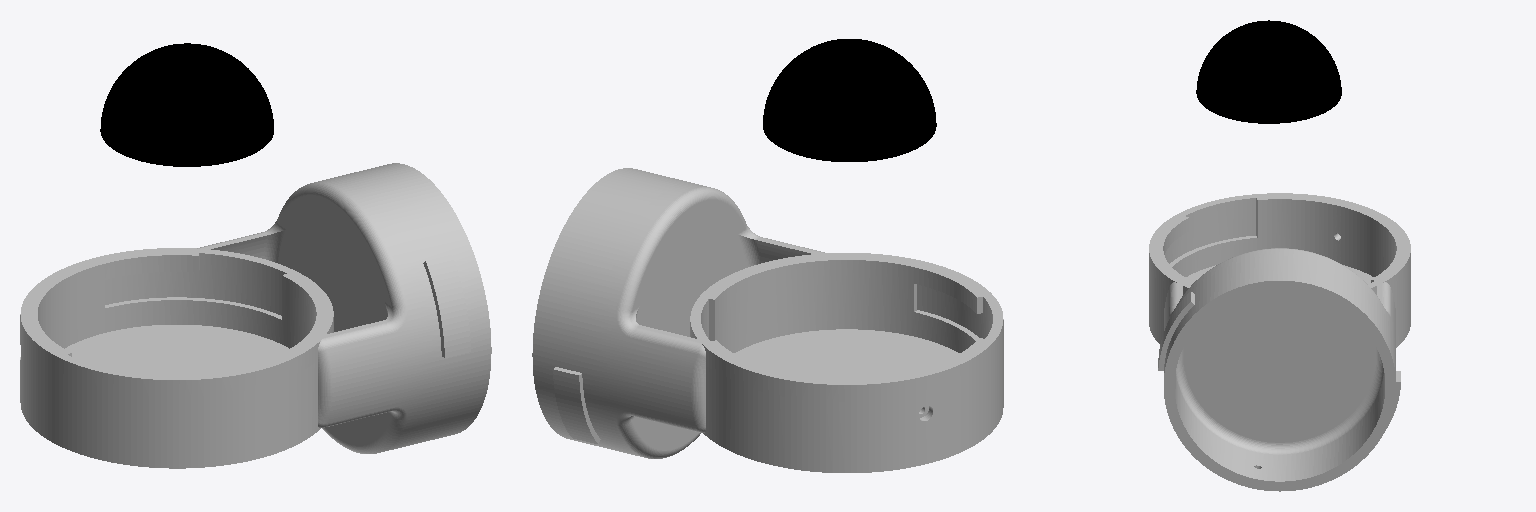
URDF robot description (tactip_body.urdf):
<?xml version="1.0" ?>
<robot name="tactip_body.urdf">

  <link name="tactip_adapter">
    <inertial>
      <origin rpy="0 0 0" xyz="0 0 0"/>
       <mass value="0.1"/>
       <inertia ixx="0.001" ixy="0" ixz="0" iyy="0.001" iyz="0" izz="0.001"/>
    </inertial>
    <visual>
      <origin rpy="0 0 0" xyz="0 0 0"/>
      <geometry>
				<mesh filename="adapter/right_angle_adapter.obj" scale="1.0 1.0 1.0"/>
      </geometry>
       <material name="whitish">
        <color rgba="0.8 0.8 0.8 1.0"/>
      </material>
    </visual>
    <collision>
      <origin rpy="0 0 0" xyz="0 0 0"/>
      <geometry>
				<mesh filename="adapter/right_angle_adapter.obj" scale="1.0 1.0 1.0"/>
      </geometry>
    </collision>
  </link>

  <link name="tactip_body">
    <inertial>
      <origin rpy="0 0 0" xyz="0 0 0"/>
       <mass value="0.1"/>
       <inertia ixx="0.001" ixy="0" ixz="0" iyy="0.001" iyz="0" izz="0.001"/>
    </inertial>
    <visual>
      <origin rpy="0 0 0" xyz="0 0 0"/>
      <geometry>
				<mesh filename="../standard_tactip/body/tactip_body.obj" scale="1.0 1.0 1.0"/>
      </geometry>
       <material name="whitish">
        <color rgba="0.8 0.8 0.8 1.0"/>
      </material>
    </visual>
    <collision>
      <origin rpy="0 0 0" xyz="0 0 0"/>
      <geometry>
				<mesh filename="../standard_tactip/body/tactip_body.obj" scale="1.0 1.0 1.0"/>
      </geometry>
    </collision>
  </link>

  <link name="tactip_core">
    <contact>
      <friction_anchor/>
      <lateral_friction value="1.0"/>
      <spinning_friction value="0.0"/>
      <rolling_friction value="0.0"/>
      <restitution value="0.0"/>
    </contact>
    <inertial>
      <origin rpy="0 0 0" xyz="0 0 0"/>
       <mass value=".001"/>
       <inertia ixx="1" ixy="0" ixz="0" iyy="1" iyz="0" izz="1"/>
    </inertial>
    <visual>
      <origin rpy="0 0 0" xyz="0 0 0"/>
      <geometry>
        <mesh filename="../standard_tactip/tip/core.obj" scale="0 0 0"/>
      </geometry>
       <material name="invisible">
        <color rgba="1.0 0.0 0.0 1.0"/>
      </material>
    </visual>
    <collision>
      <origin rpy="0 0 0" xyz="0 0 0"/>
      <geometry>
        <mesh filename="../standard_tactip/tip/core.obj" scale="1 1 1"/>
      </geometry>
    </collision>
  </link>

  <link name="tactip_skin">
    <inertial>
      <origin rpy="0 0 0" xyz="0 0 0"/>
       <mass value=".0"/>
       <inertia ixx=".001" ixy="0" ixz="0" iyy=".001" iyz="0" izz=".001"/>
    </inertial>
    <visual>
      <origin rpy="0 0 0" xyz="0 0 0"/>
      <geometry>
        <mesh filename="../standard_tactip/tip/skin.obj" scale="1.0 1.0 1.0"/>
      </geometry>
       <material name="black">
        <color rgba="0.0 0.0 0.0 1.0"/>
      </material>
    </visual>
  </link>

  <joint name="body_to_adapter" type="fixed">
     <origin rpy="0 0 0" xyz="0 0 0"/>
     <parent link="tactip_adapter"/>
     <child link="tactip_body"/>
  </joint>

  <joint name="core_to_body" type="fixed">
     <origin rpy="1.57 0 0" xyz="0 0 0.065"/>
     <axis xyz="0 1 0"/>
     <parent link="tactip_body"/>
     <child link="tactip_core"/>
  </joint>

  <joint name="skin_to_body" type="fixed">
     <origin rpy="1.57 0 0" xyz="0 0 0.065"/>
     <parent link="tactip_body"/>
     <child link="tactip_skin"/>
  </joint>


</robot>

--- Render facts (derived) ---
3 views of the same robot in one strip: view 1: azimuth 30°, elevation 25°; view 2: azimuth 150°, elevation 25°; view 3: azimuth 270°, elevation 25° (orthographic).
Model tactip_body.urdf with 4 links and 3 joints (3 fixed), rooted at tactip_adapter, posed every joint at zero.
Links seen in each view (by area): view 1: tactip_adapter, tactip_skin; view 2: tactip_adapter, tactip_skin; view 3: tactip_adapter, tactip_skin.
Link boxes in pixels (bbox=[...]): tactip_adapter: bbox=[20, 163, 491, 468]; tactip_skin: bbox=[100, 43, 273, 166]; tactip_adapter: bbox=[532, 168, 1003, 472]; tactip_skin: bbox=[763, 39, 936, 161]; tactip_adapter: bbox=[1149, 193, 1410, 491]; tactip_skin: bbox=[1196, 20, 1341, 123].
Size in the robot's own frame: 0.101 by 0.072 by 0.111 metres.
Meshes: 4 distinct files referenced, 3 mesh visuals loaded (3 OBJ); not drawn: 1 (reference not matched to a file when rendering).